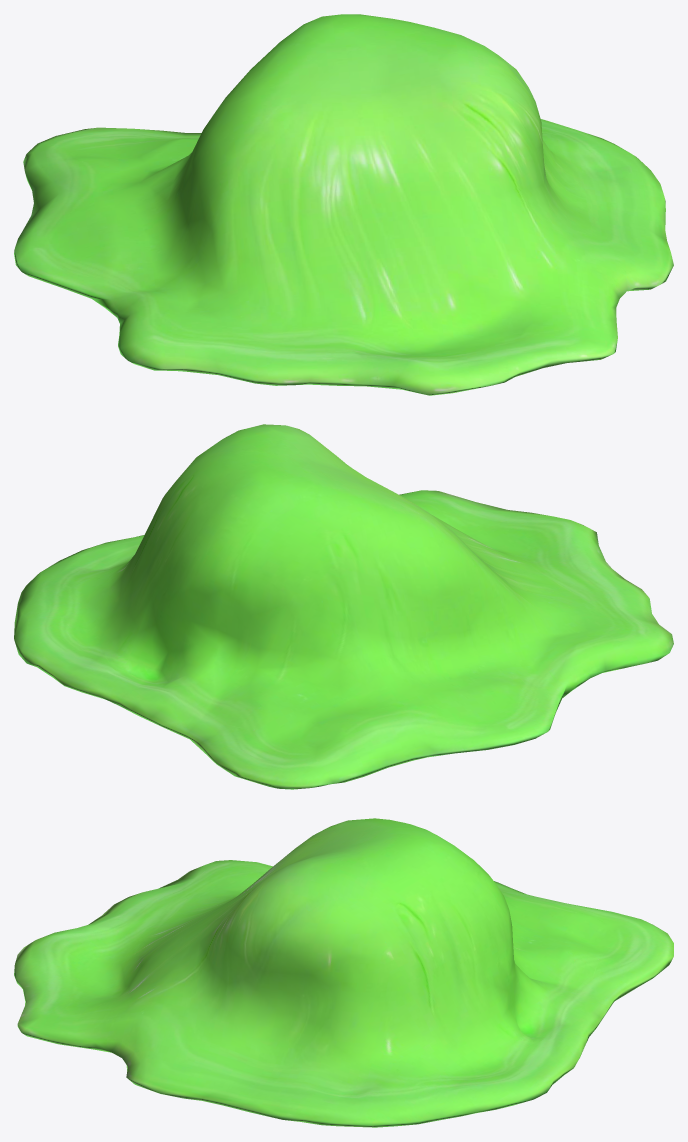
The model's file is slime_goo__0706142748_texture.fbx.
The picture shows the model from 3 angles, top to bottom: view 1: azimuth 30°, elevation 25°; view 2: azimuth 150°, elevation 25°; view 3: azimuth 270°, elevation 25°; orthographic projection. The views are drawn at different scales.
Parts seen in each view (by area): view 1: Mesh1; view 2: Mesh1; view 3: Mesh1.
Boxes of the visible parts, x1,y1,x2,y2 form: Mesh1: (14,14,673,395); Mesh1: (14,424,673,789); Mesh1: (14,818,673,1127).
Size of the model in its own units: 185 by 57.57 by 199.
Materials: 1 (1 with a texture image).
